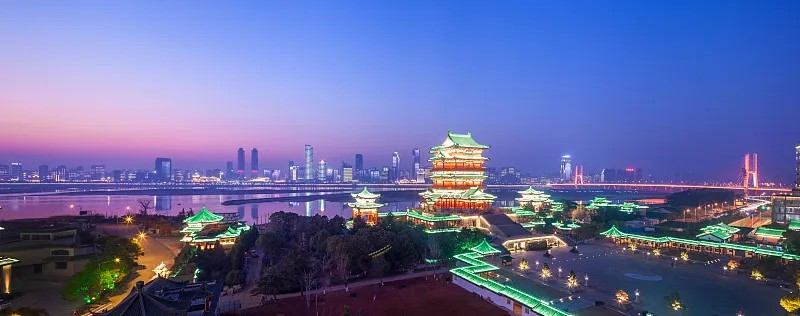Teng: (417, 132, 497, 215)
